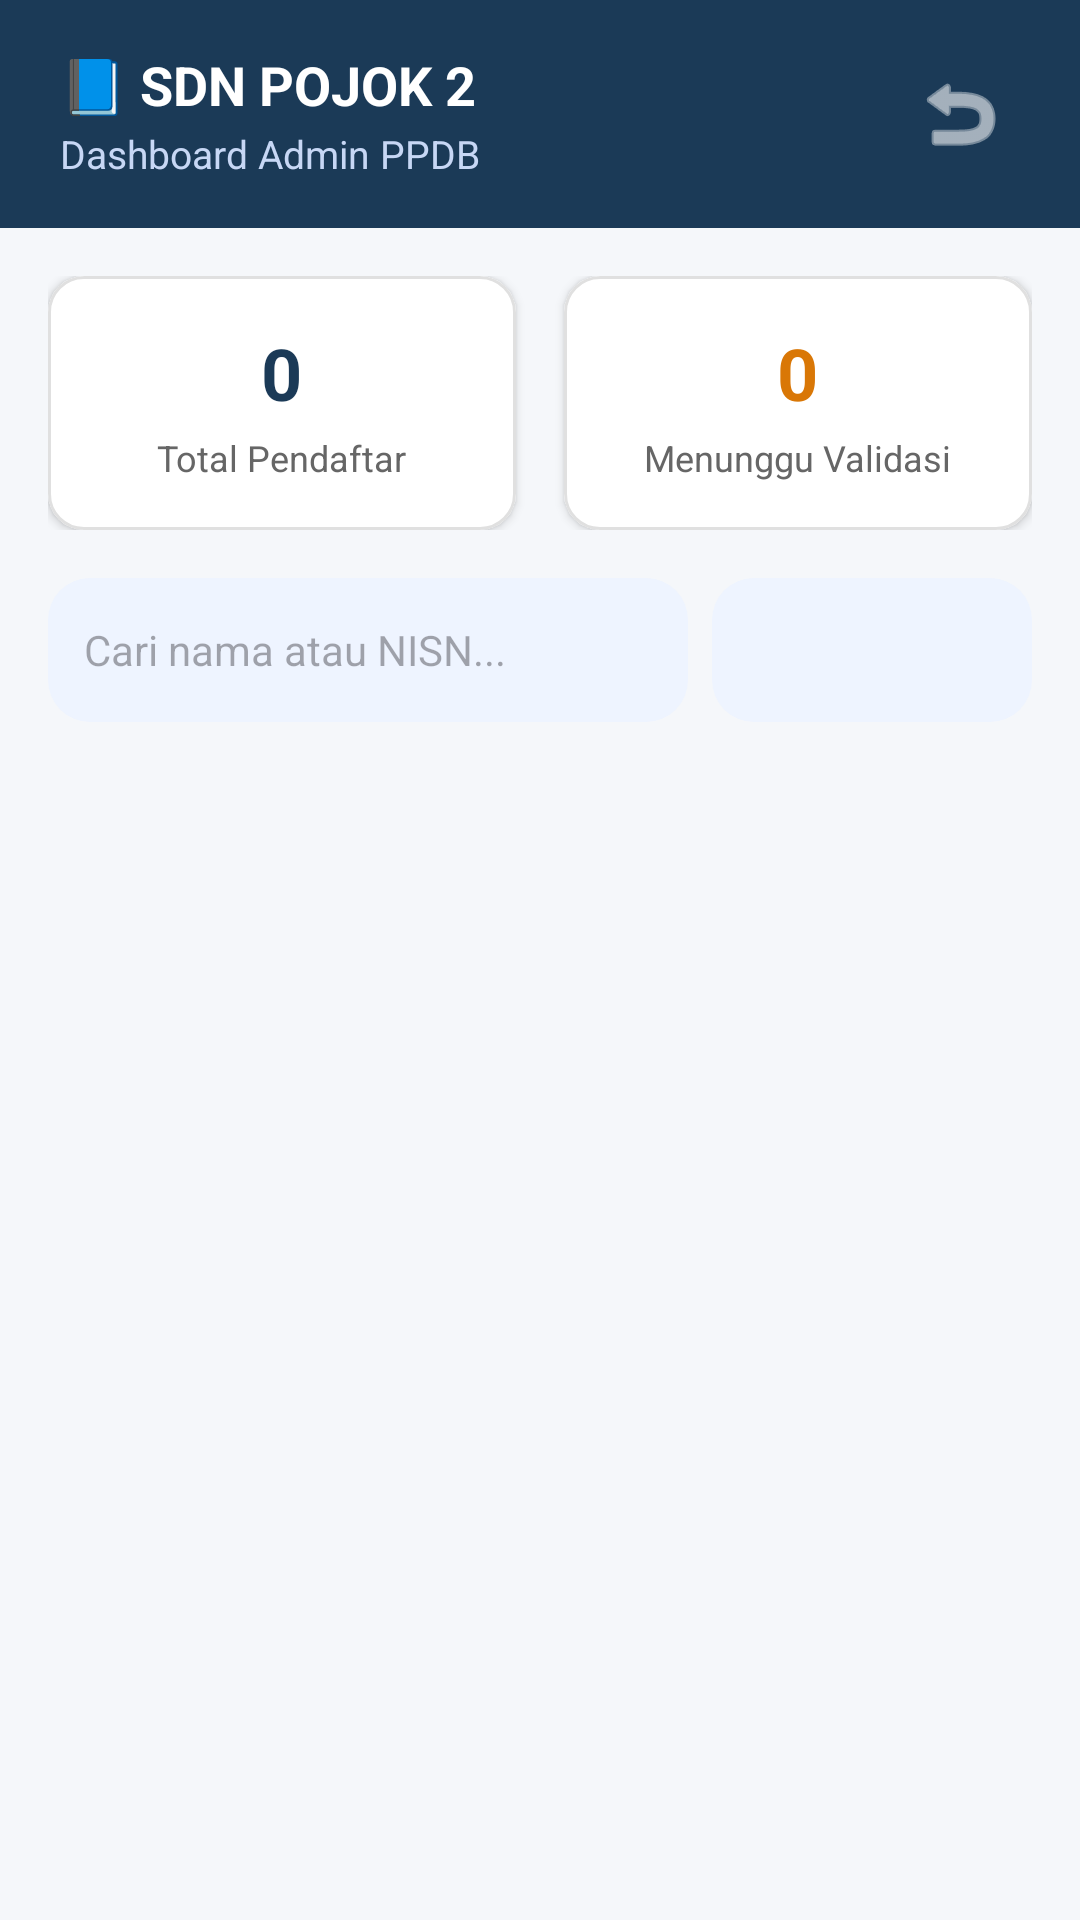

Where to tap for icons on this 1080×1920 app screen, as (x=x, y=y):
Keluar: (x=961, y=114)
